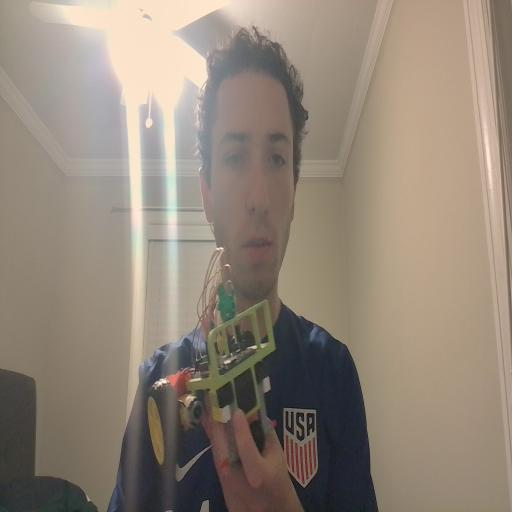green LEGO minifig: (215, 281, 239, 325)
